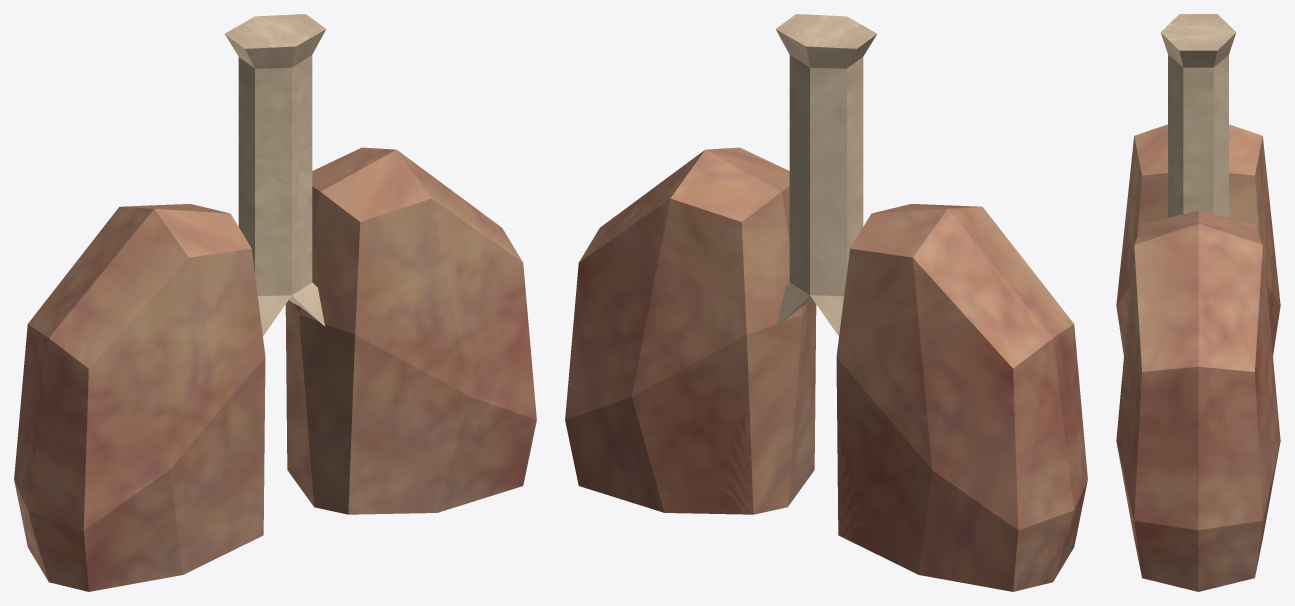
File: Lungs.fbx
3 views of the same model, side by side, from view 1: azimuth 30°, elevation 25°; view 2: azimuth 150°, elevation 25°; view 3: azimuth 270°, elevation 25° (orthographic). The views are drawn at different scales.
Parts seen in each view (by area): view 1: Cylinder; view 2: Cylinder; view 3: Cylinder.
Boxes of the visible parts, x1,y1,x2,y2 form: Cylinder: (14, 14, 536, 591); Cylinder: (565, 14, 1087, 591); Cylinder: (1116, 14, 1280, 591).
Size of the model in its own units: 1444 by 1434 by 449.
